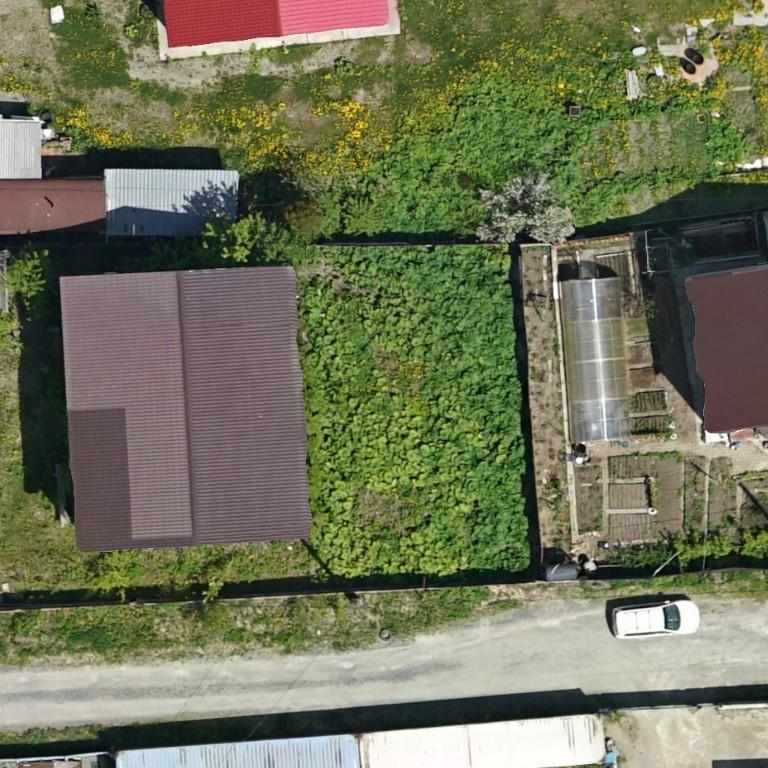hogweed: (334, 246, 532, 577), (321, 81, 690, 239), (705, 123, 742, 172), (64, 126, 92, 150)
